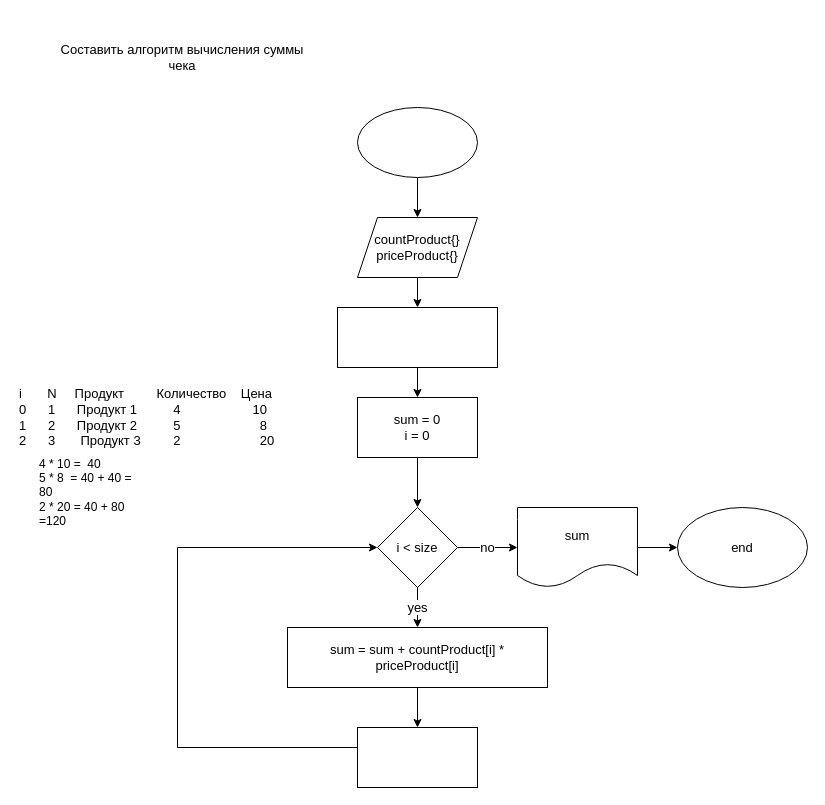
The diagram is 825 pixels wide and 805 high, and some of its shapes have lost their labels. The centre of each missing label's shape, as x and y in pixels:
i = i + 1: (x=417, y=757)
size = countProduct.Length: (x=417, y=337)
Start: (x=417, y=142)
